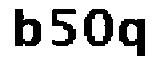0: (83, 6, 115, 49)
5: (49, 7, 80, 49)
b: (12, 6, 46, 47)
q: (120, 14, 148, 60)
